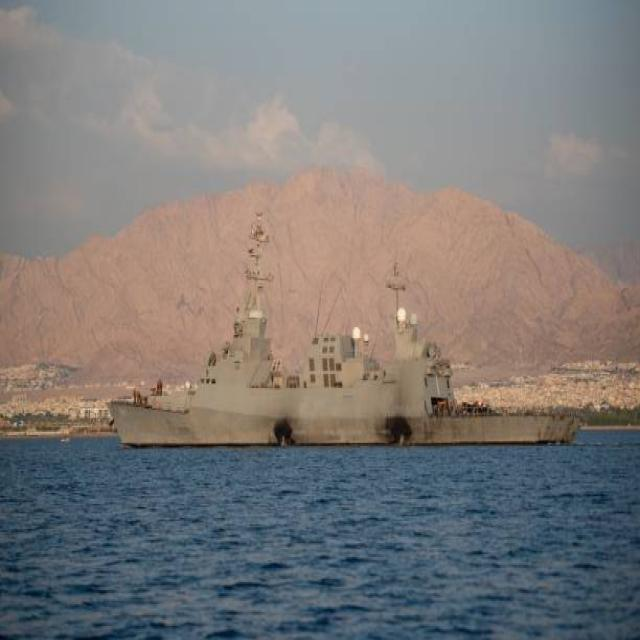Military: (108, 213, 586, 448)
